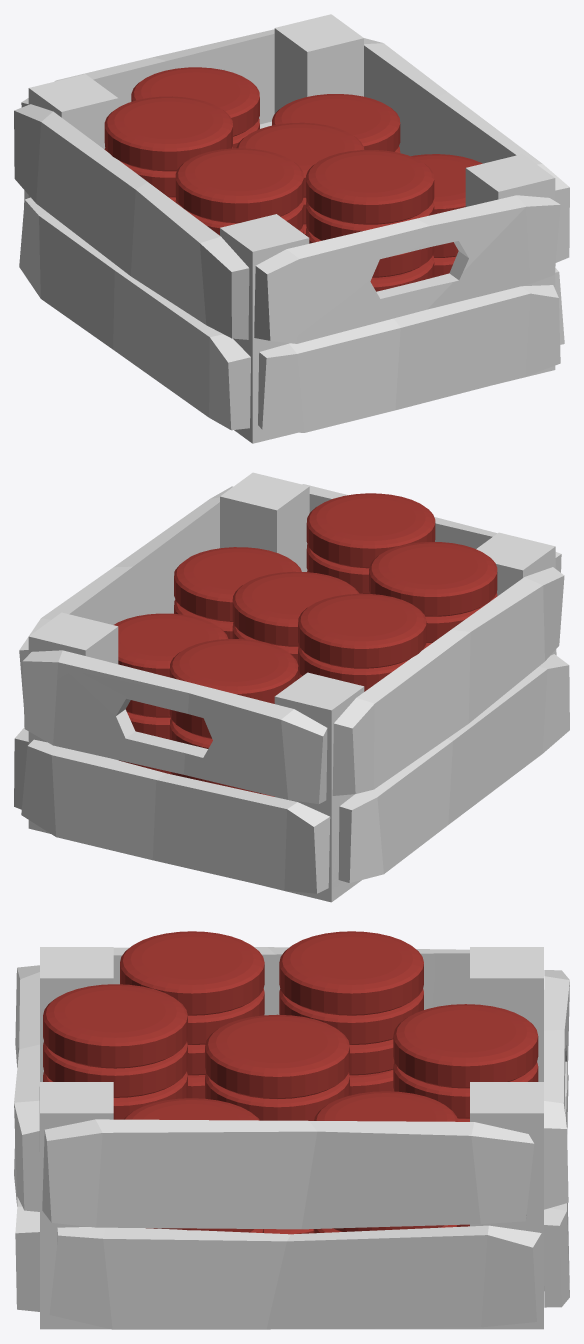
The model's file is burger_stacks.fbx.
The picture shows the model from 3 angles, top to bottom: view 1: azimuth 30°, elevation 25°; view 2: azimuth 150°, elevation 25°; view 3: azimuth 270°, elevation 25°; orthographic projection. The views are drawn at different scales.
Visible parts, largest first — view 1: Crate4, burger_stacks; view 2: Crate4, burger_stacks; view 3: Crate4, burger_stacks.
Boxes of the visible parts, bbox=[...] form: Crate4: bbox=[14, 14, 569, 443]; burger_stacks: bbox=[104, 67, 482, 291]; Crate4: bbox=[14, 472, 569, 902]; burger_stacks: bbox=[114, 493, 497, 796]; Crate4: bbox=[14, 947, 569, 1329]; burger_stacks: bbox=[43, 931, 538, 1234].
Size of the model in its own units: 161 by 93.57 by 201.
